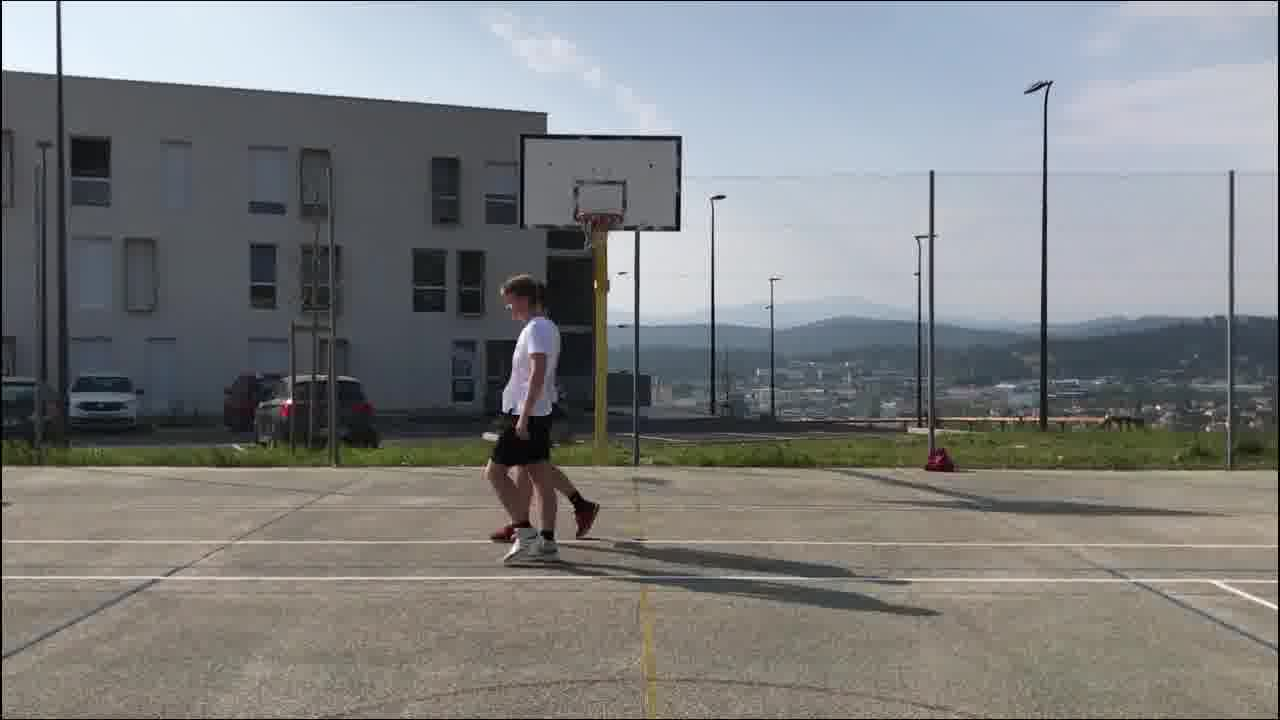jugador: (472, 267, 611, 554)
